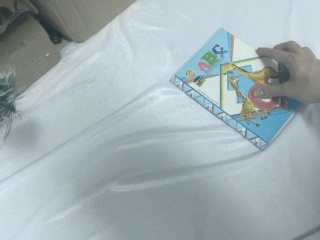book: (170, 25, 316, 153)
box: (25, 1, 144, 45)
